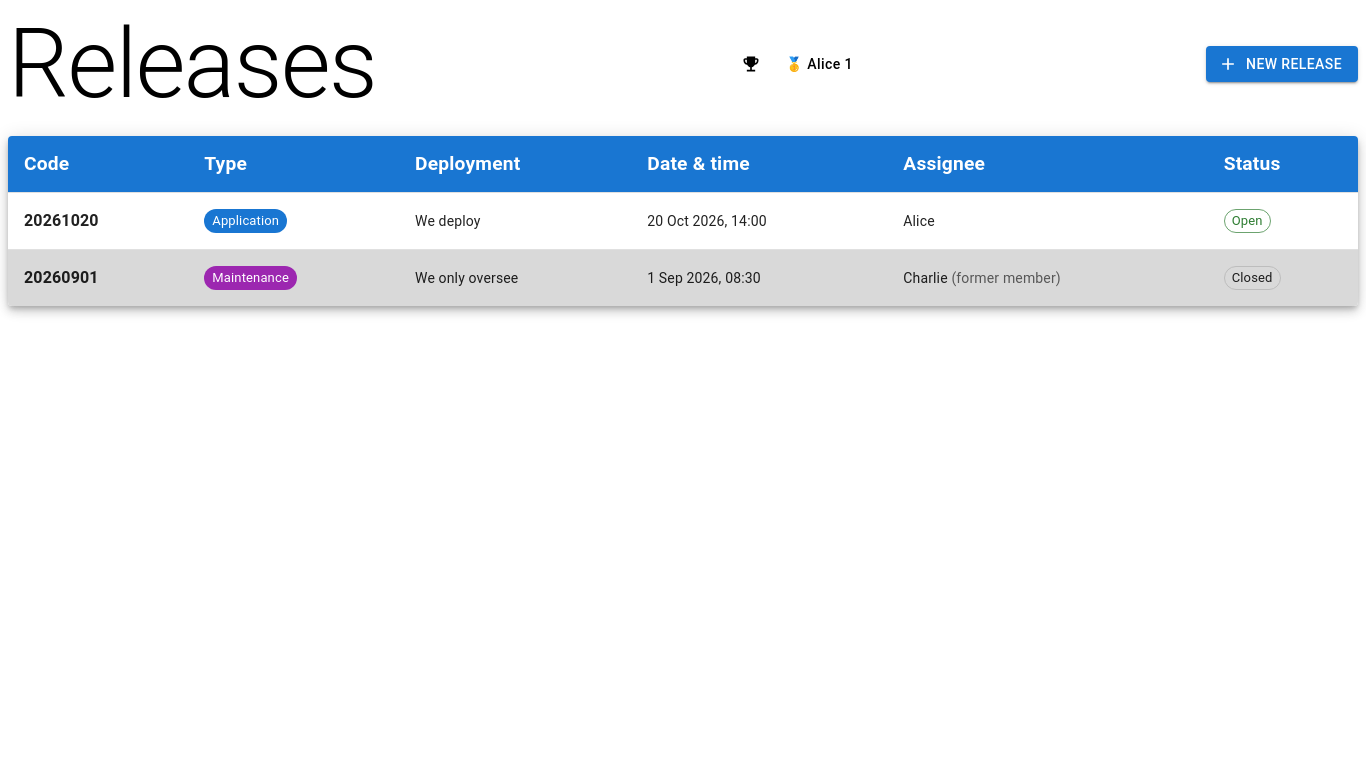
Test case: ReleasesScreen › Creating a release › submits the form with the entered values
This screenshot has width=1366, height=768.
Expected: the table is shown, 8,136 -> 1358,306
Click the button "New release".
click(1282, 64)  # box 1206,46 -> 1358,82
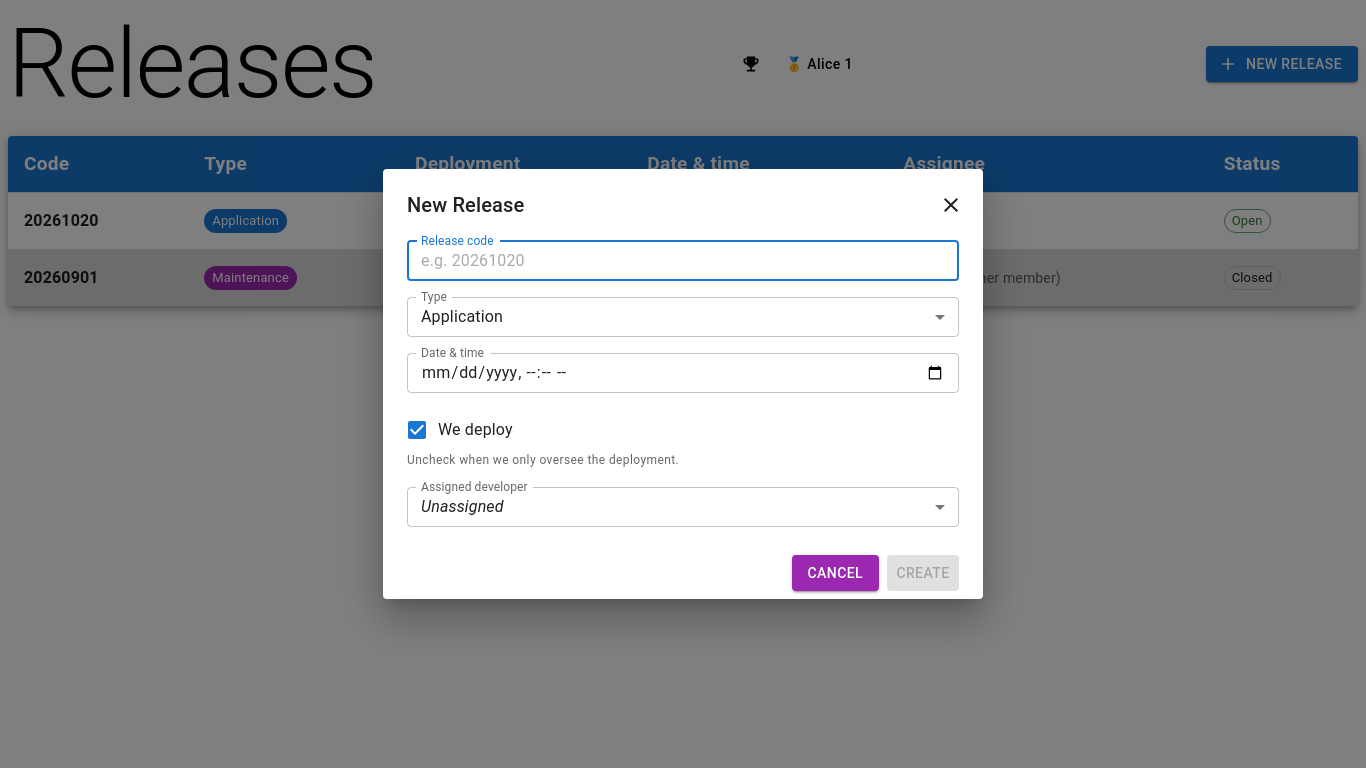
Type "20261105" into the field labelled "Release code".
click(683, 261); type("20261105")  # box 407,241 -> 959,281
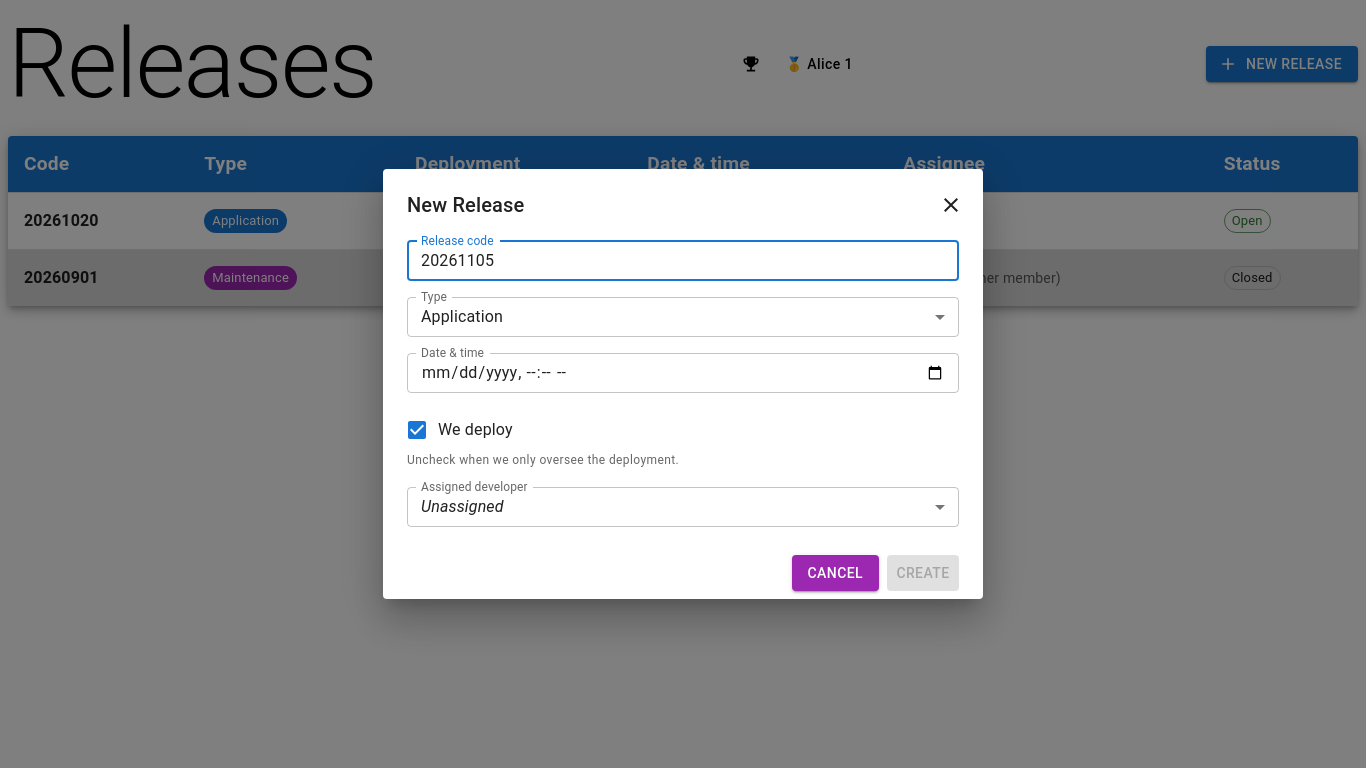
Type "2026-11-05T09:00" into the field labelled "Date & time".
click(683, 373); type("2026-11-05T09:00")  # box 407,353 -> 959,393
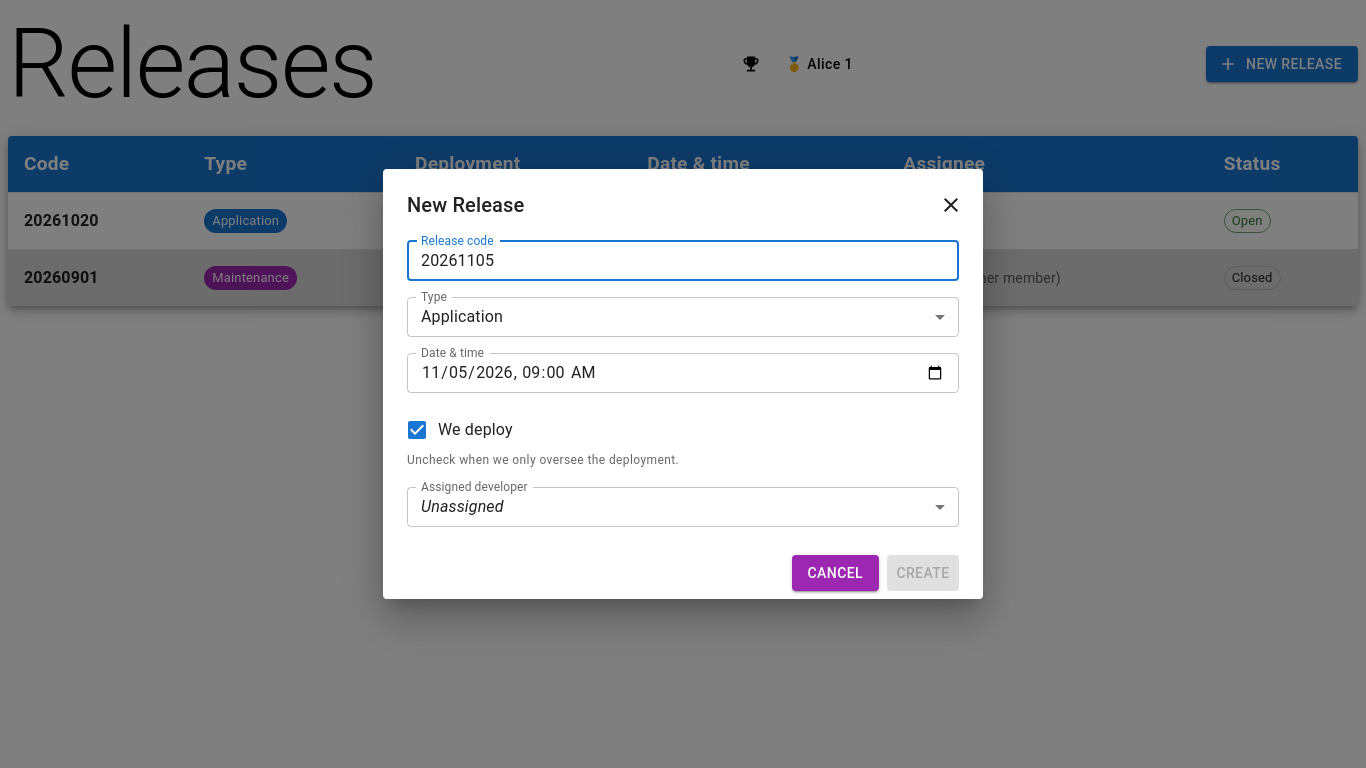
Press the mouse on the dropdown named "Assigned developer" at (462, 507), box 421,497 -> 504,516
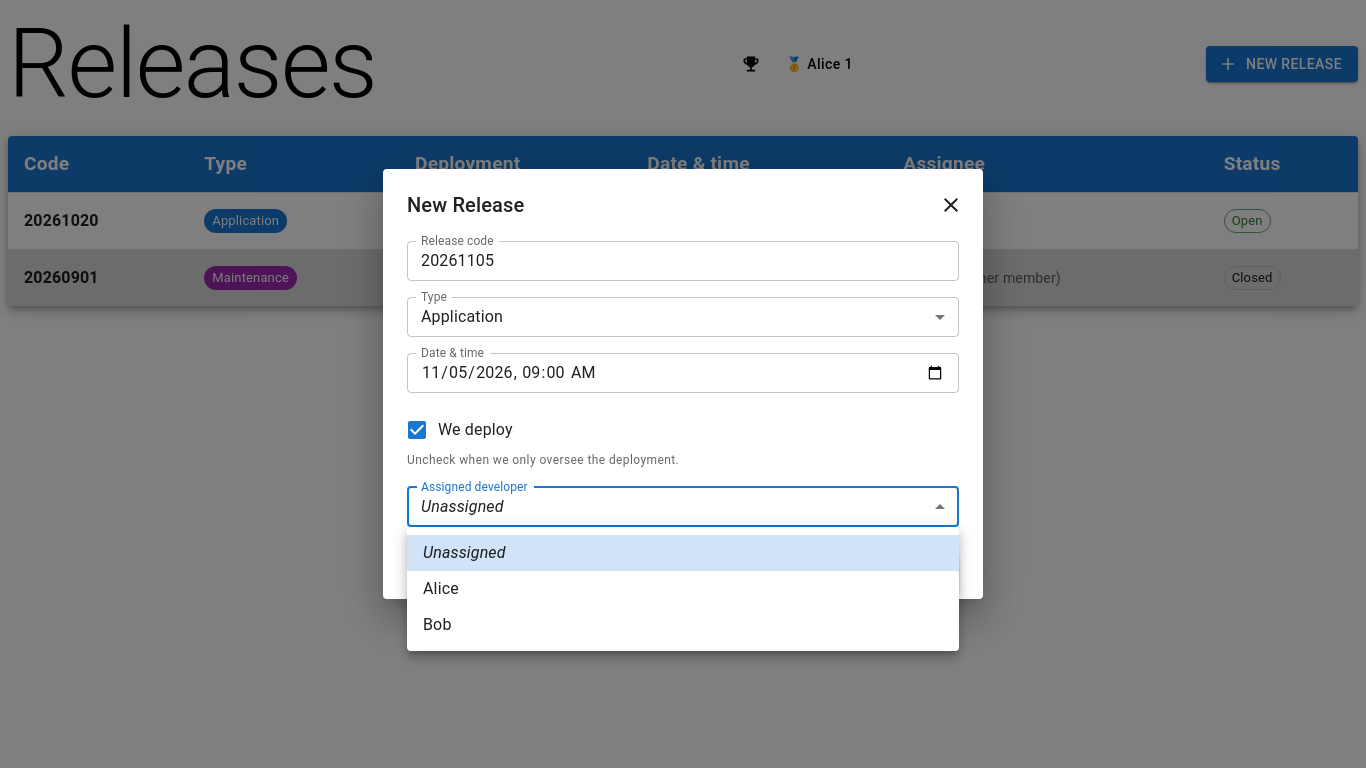
Click the option "Bob".
click(437, 624)  # box 423,615 -> 452,634
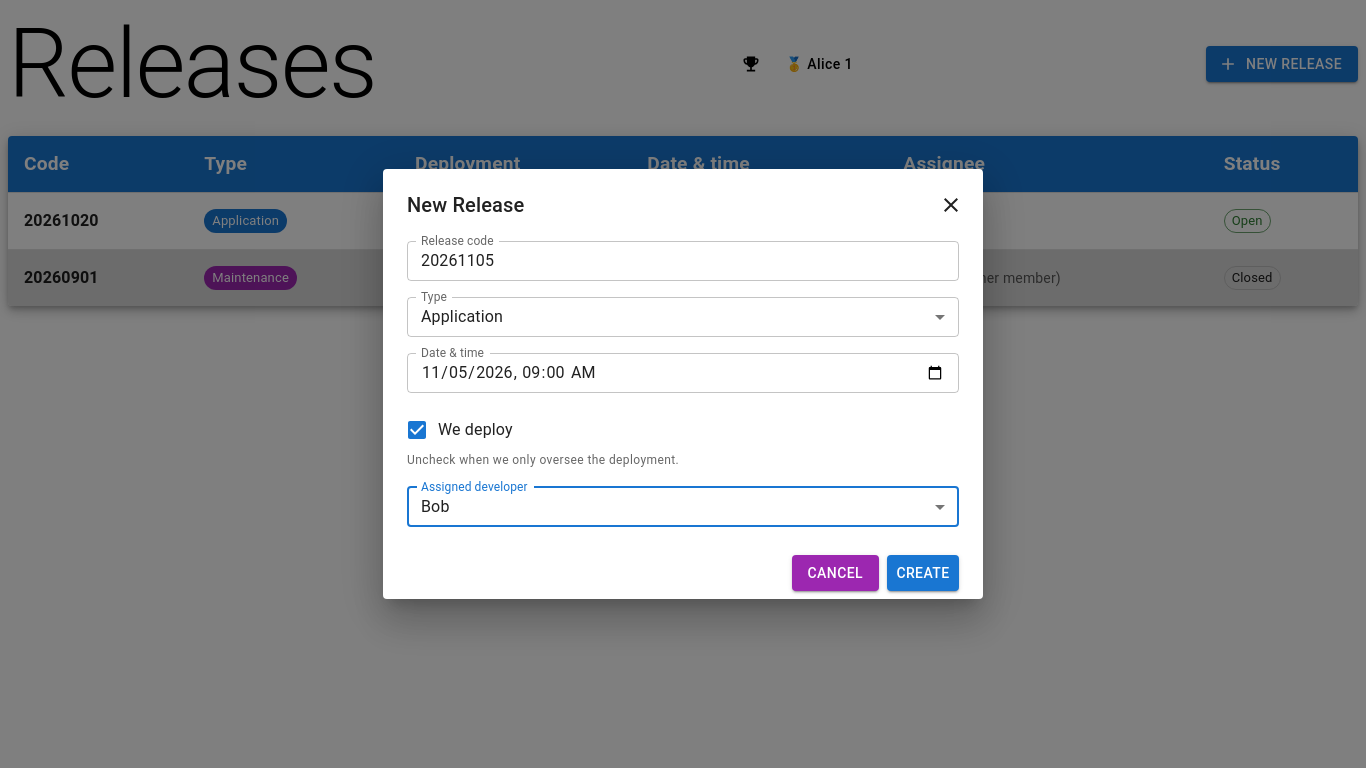
Now the button "Create" is enabled
Click the button "Create".
click(923, 573)  # box 887,555 -> 959,591
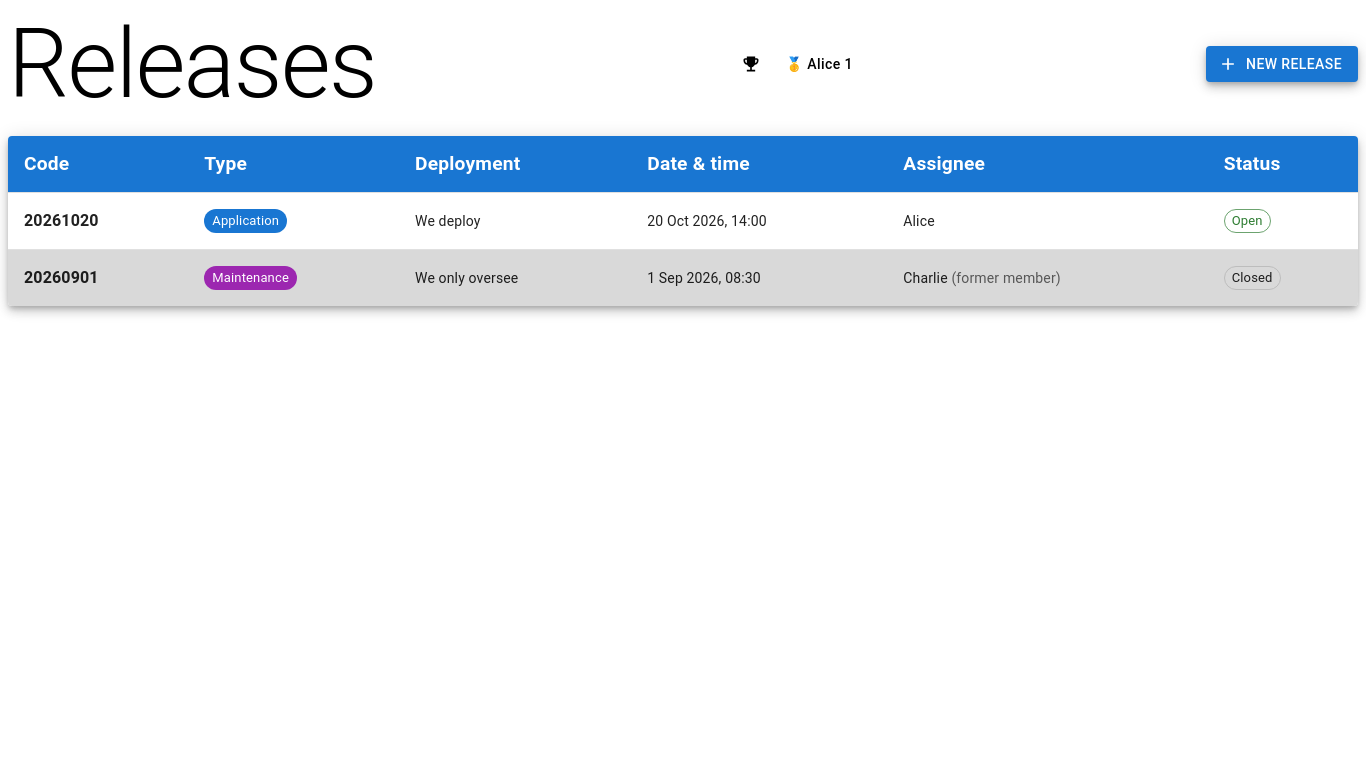
Now the dialog is gone
